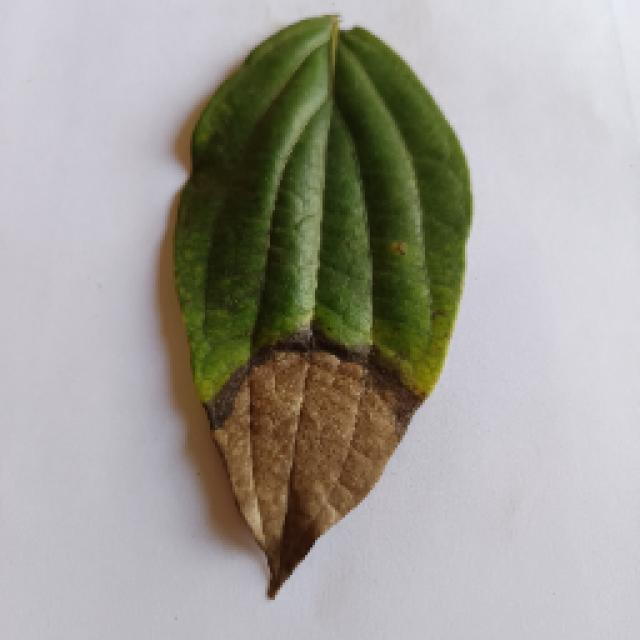footrot: (172, 15, 470, 597)
